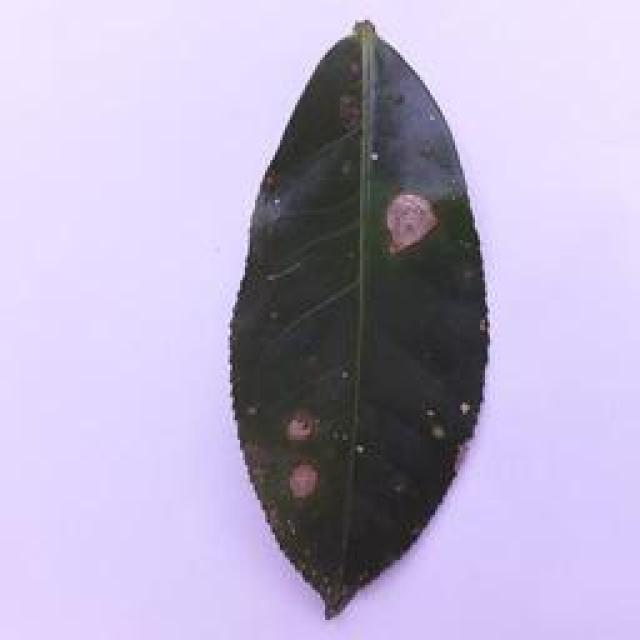Gray Blight: (224, 21, 494, 620)
